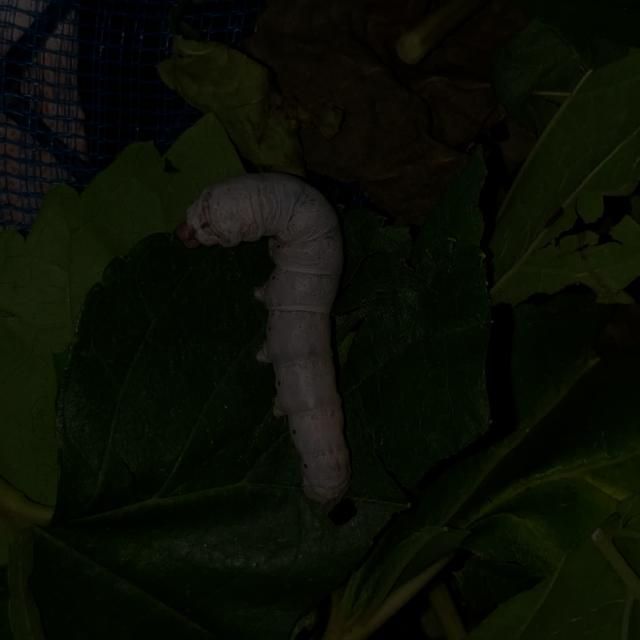Healthy: (169, 164, 392, 516)
